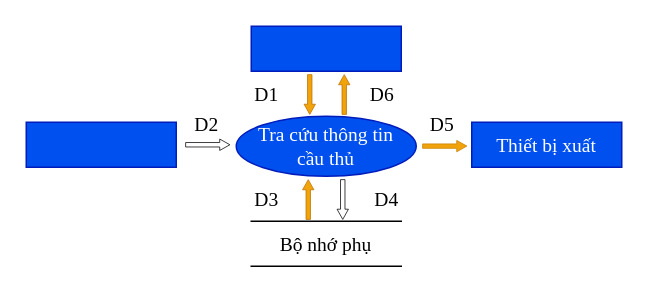
Image size: 648x293. Some labels were removed from this diagram. Each missing label, with the box of its shape:
Người dùng: (250, 25, 401, 71)
Thiết bị nhập: (25, 121, 176, 167)
